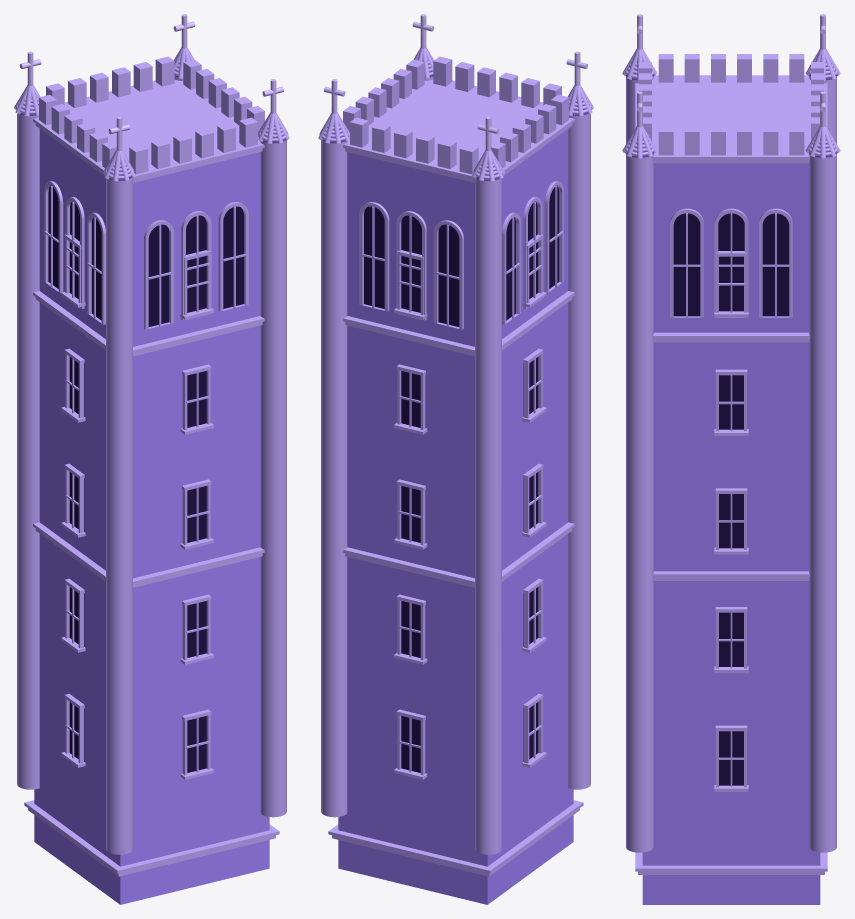
Rendered from philippe_violet_light.glb.
3 views of the same model, side by side, from view 1: azimuth 30°, elevation 25°; view 2: azimuth 150°, elevation 25°; view 3: azimuth 270°, elevation 25° (orthographic). The views are drawn at different scales.
Parts seen in each view (by area): view 1: Violet stone, Lavender carved stone, Recessed glazing, Pale violet trim; view 2: Violet stone, Lavender carved stone, Recessed glazing, Pale violet trim; view 3: Violet stone, Lavender carved stone, Recessed glazing, Pale violet trim.
Boxes of the visible parts, left/top/right/bottom form: Violet stone: left=34, top=129, right=269, bottom=904; Lavender carved stone: left=14, top=47, right=289, bottom=876; Recessed glazing: left=48, top=185, right=243, bottom=772; Pale violet trim: left=19, top=14, right=284, bottom=151; Violet stone: left=338, top=129, right=573, bottom=904; Lavender carved stone: left=318, top=47, right=593, bottom=876; Recessed glazing: left=364, top=185, right=559, bottom=772; Pale violet trim: left=323, top=14, right=588, bottom=151; Violet stone: left=642, top=163, right=820, bottom=904; Lavender carved stone: left=622, top=49, right=840, bottom=874; Recessed glazing: left=673, top=213, right=789, bottom=785; Pale violet trim: left=637, top=14, right=825, bottom=126.
Bounding box in the file's own units: 11.2 × 46 × 11.2.
